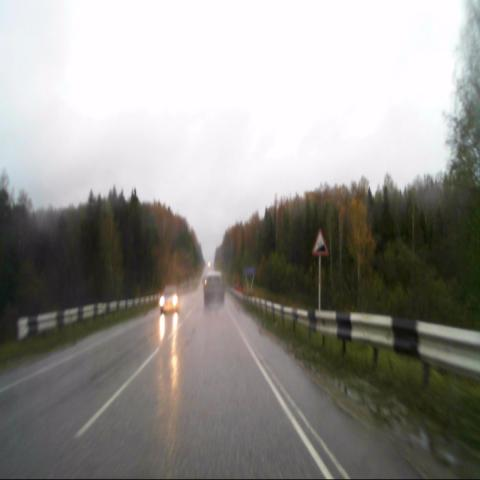1_14: (312, 228, 330, 255)
